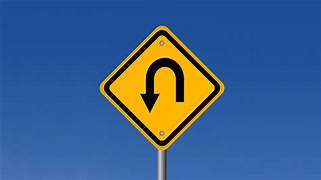back: (100, 24, 226, 150)
